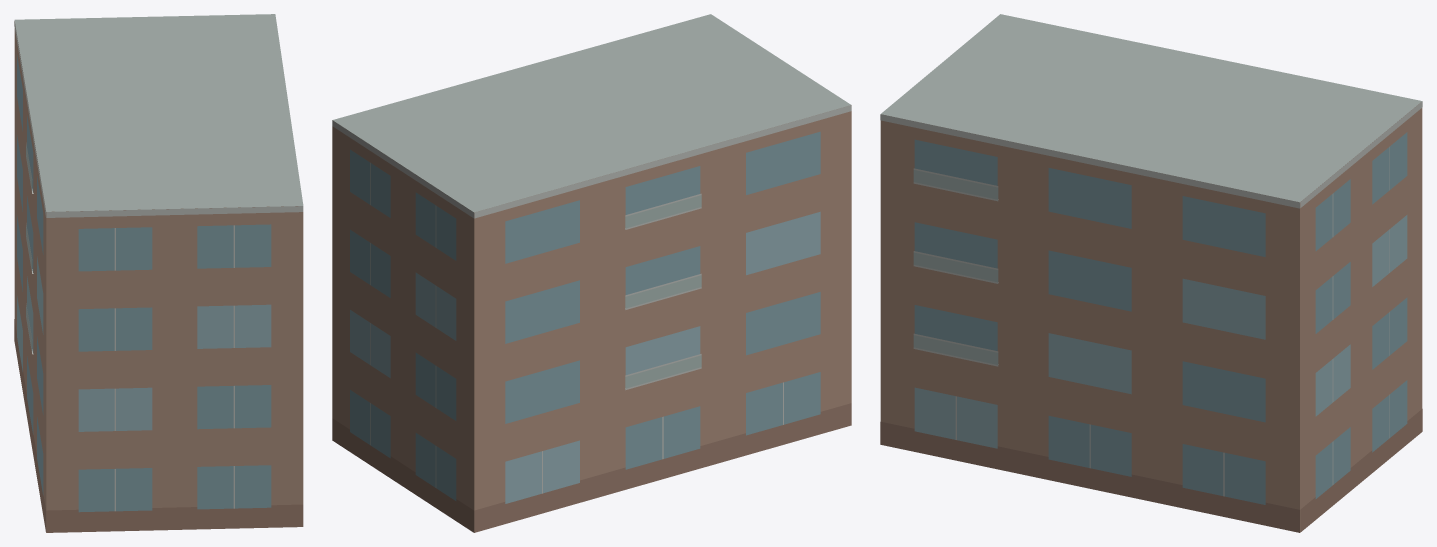
File: survey-upis-32988204.glb
The picture shows the model from 3 angles, left to right: view 1: azimuth 30°, elevation 25°; view 2: azimuth 150°, elevation 25°; view 3: azimuth 270°, elevation 25°; orthographic projection. The views are drawn at different scales.
Visible parts, largest first — view 1: survey-upis-32988204.tmp; view 2: survey-upis-32988204.tmp; view 3: survey-upis-32988204.tmp.
Boxes of the visible parts, box(x1,y1,x2,y2) form: survey-upis-32988204.tmp: box(14, 14, 303, 532); survey-upis-32988204.tmp: box(332, 14, 851, 532); survey-upis-32988204.tmp: box(880, 14, 1422, 532).
Bounding box in the file's own units: 15.65 × 12.8 × 19.03.
